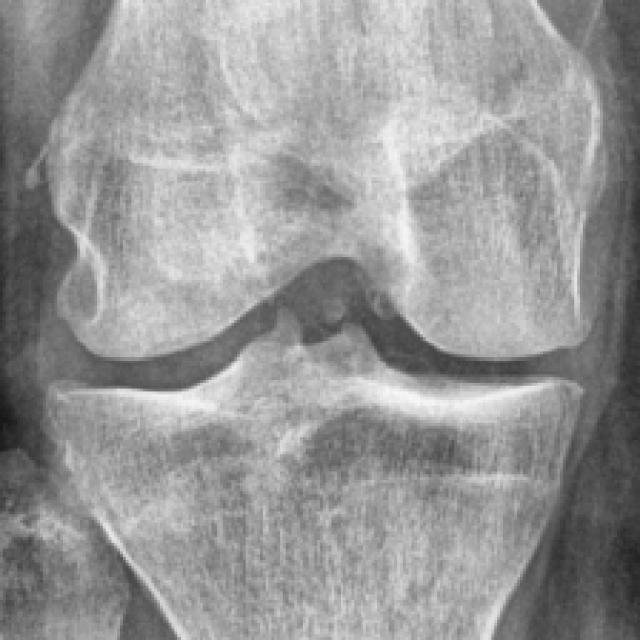femur: (54, 1, 609, 360)
tibia: (60, 325, 587, 640)
